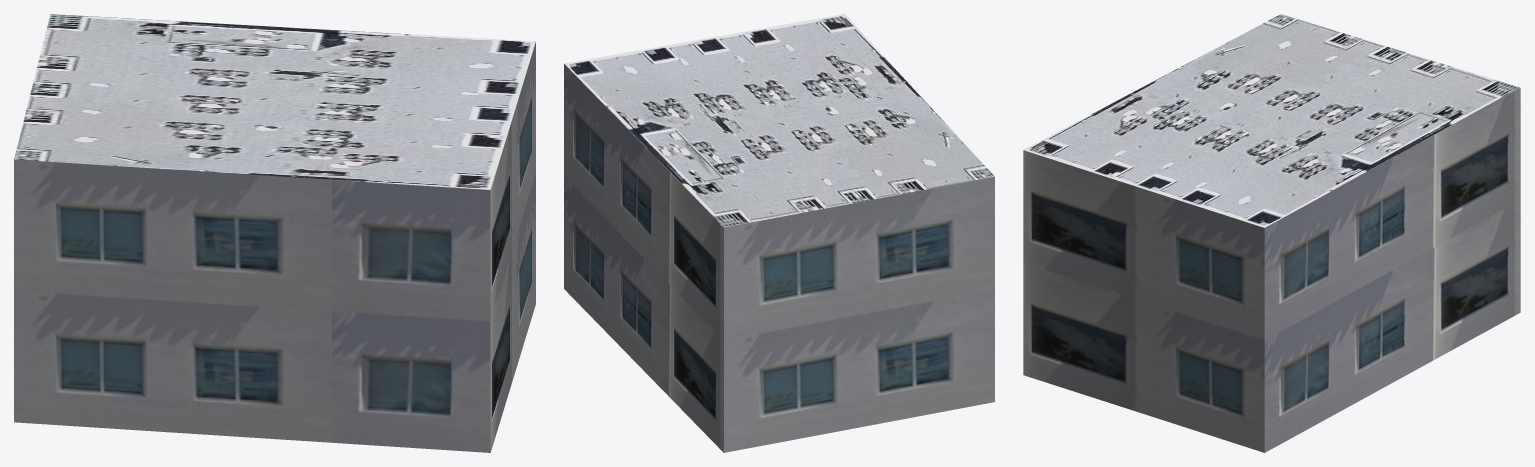
Rendered from ResTex__5229.fbx.
The picture shows the model from 3 angles, left to right: view 1: azimuth 30°, elevation 25°; view 2: azimuth 150°, elevation 25°; view 3: azimuth 270°, elevation 25°; orthographic projection. The views are drawn at different scales.
Parts seen in each view (by area): view 1: CityEngineMaterial_10_m, CityEngineMaterial_m; view 2: CityEngineMaterial_10_m, CityEngineMaterial_m; view 3: CityEngineMaterial_10_m, CityEngineMaterial_m.
Part boxes in pixels (<box>): CityEngineMaterial_10_m: <box>14,42,535,452</box>; CityEngineMaterial_m: <box>14,14,535,189</box>; CityEngineMaterial_10_m: <box>564,64,994,452</box>; CityEngineMaterial_m: <box>564,14,994,227</box>; CityEngineMaterial_10_m: <box>1023,88,1520,452</box>; CityEngineMaterial_m: <box>1023,14,1519,227</box>.
Size of the model in its own units: 12.24 by 6 by 12.02.
2 materials, 2 textured.
